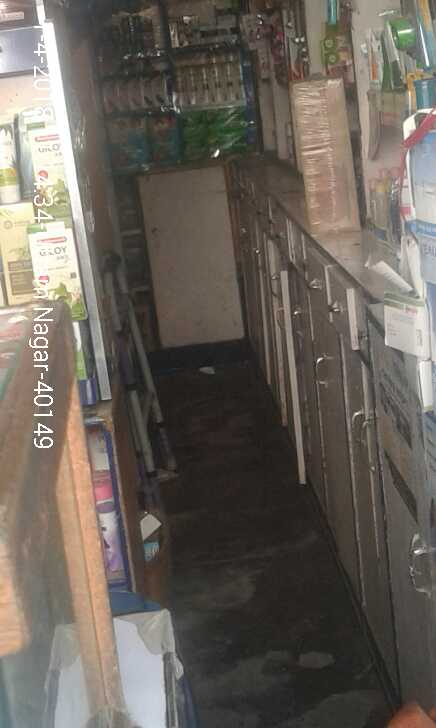vicks: (98, 17, 158, 46)
